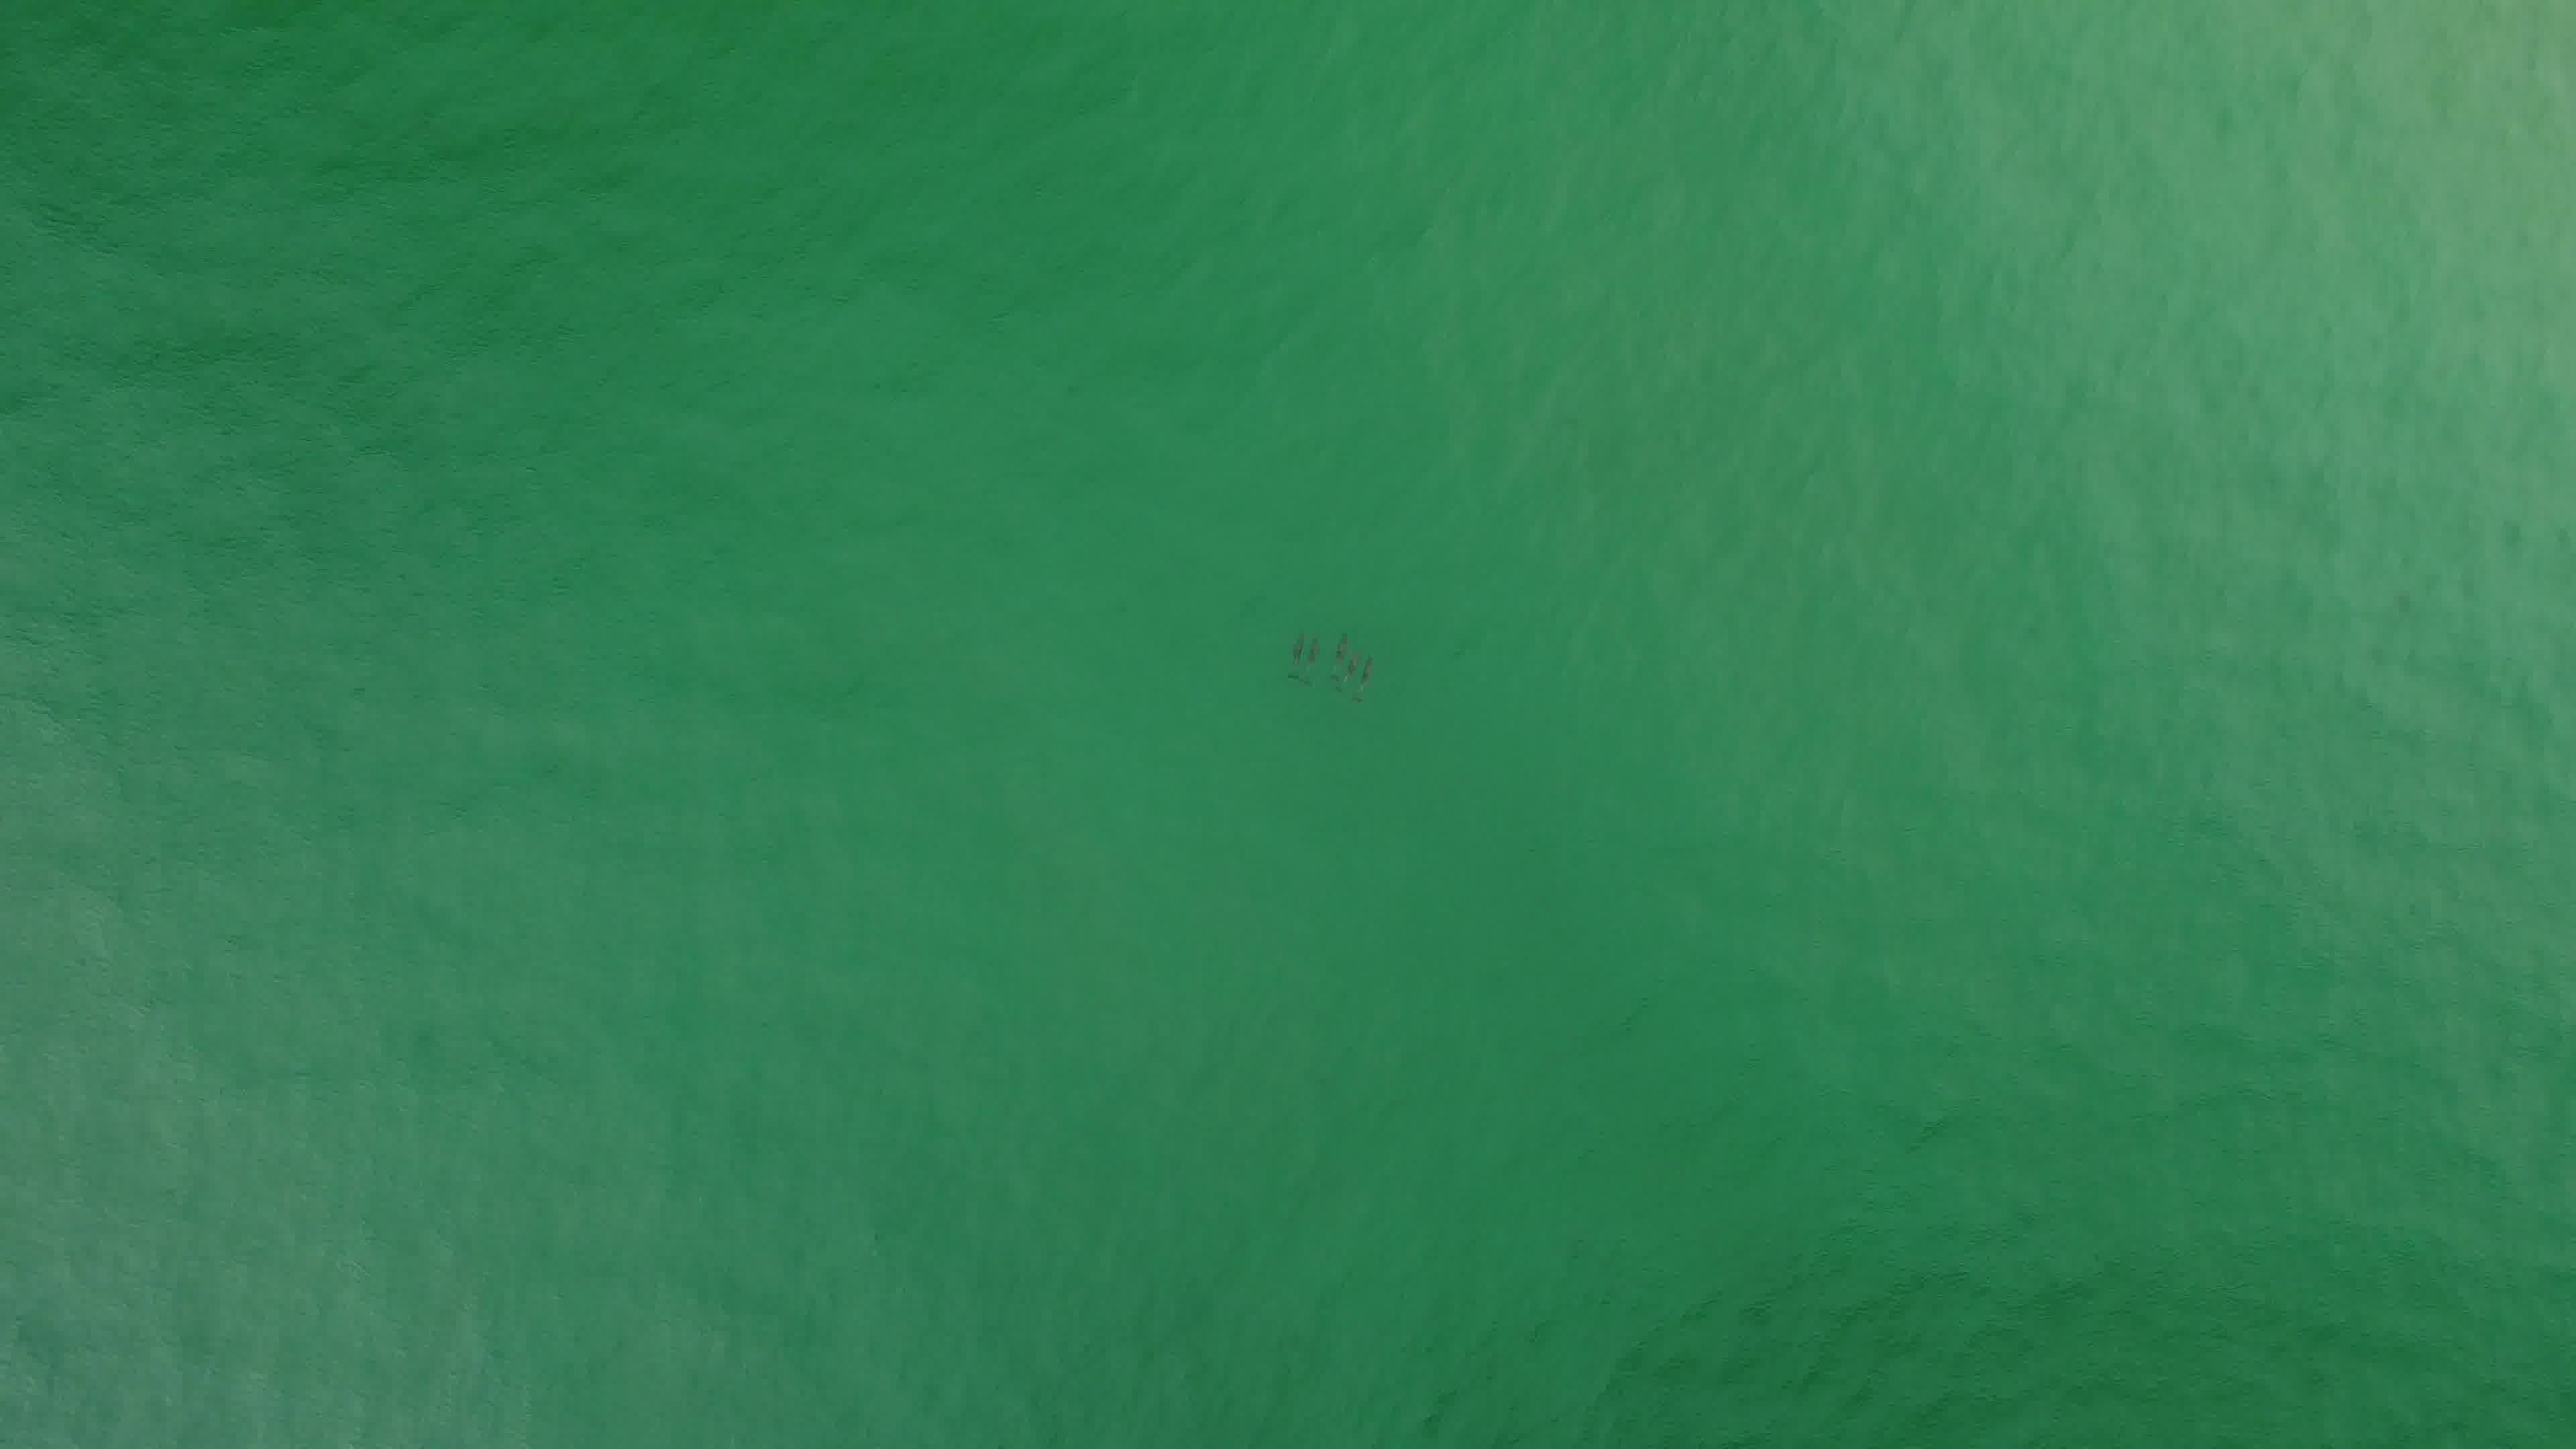dolphin: (1346, 648, 1382, 722), (1279, 626, 1307, 685), (1329, 621, 1348, 688), (1338, 646, 1362, 694), (1304, 628, 1322, 686)
